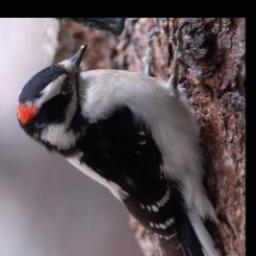Woodpecker: (12, 38, 232, 256)
